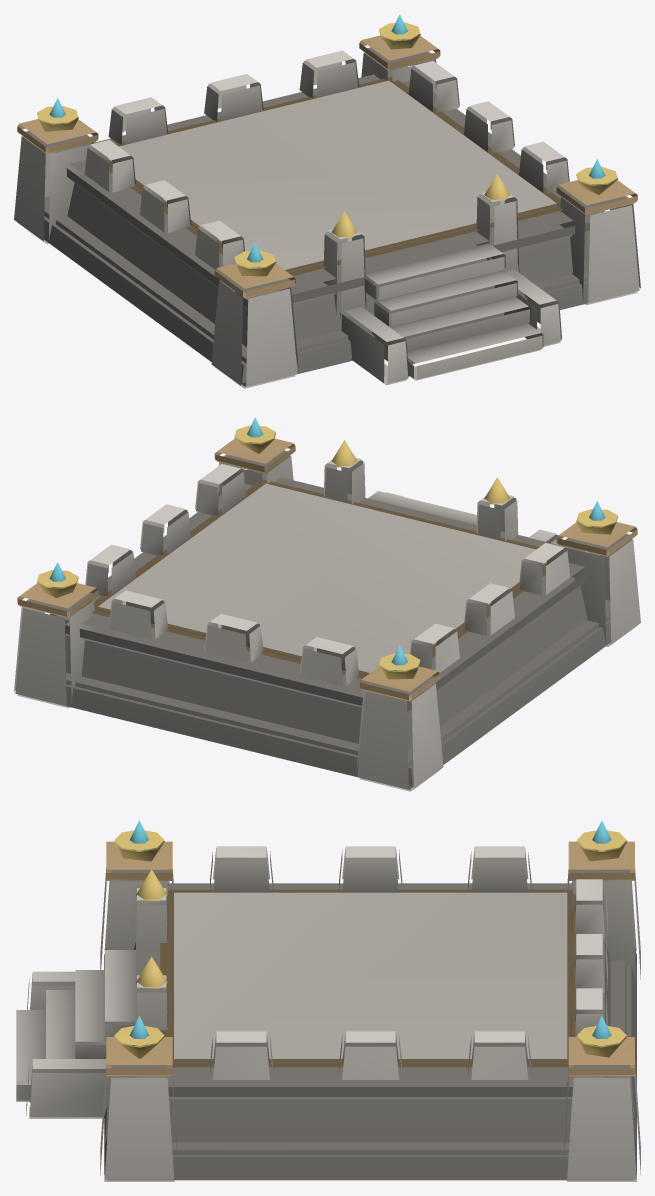
The model's file is citadel_plinth_lod2.glb.
The picture shows the model from 3 angles, top to bottom: view 1: azimuth 30°, elevation 25°; view 2: azimuth 150°, elevation 25°; view 3: azimuth 270°, elevation 25°; orthographic projection. The views are drawn at different scales.
Visible parts, largest first — view 1: citadel_plinth.001; view 2: citadel_plinth.001; view 3: citadel_plinth.001.
Boxes of the visible parts, bbox=[...] form: citadel_plinth.001: bbox=[14, 14, 640, 388]; citadel_plinth.001: bbox=[14, 417, 640, 791]; citadel_plinth.001: bbox=[16, 820, 640, 1181].
Size of the model in its own units: 4.4 by 1.4 by 5.1.
